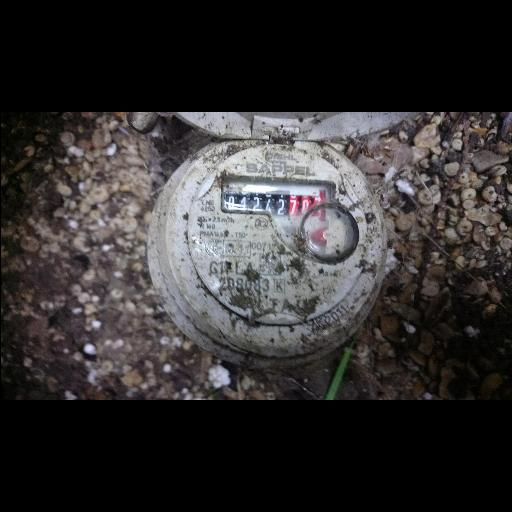0: (225, 190, 238, 210), (299, 196, 311, 217)
1: (236, 191, 250, 211)
2: (275, 194, 288, 216), (249, 192, 263, 212)
4: (262, 193, 276, 213), (311, 196, 325, 208)
7: (287, 195, 300, 217)
border_water_meter_number: (219, 174, 336, 220)
